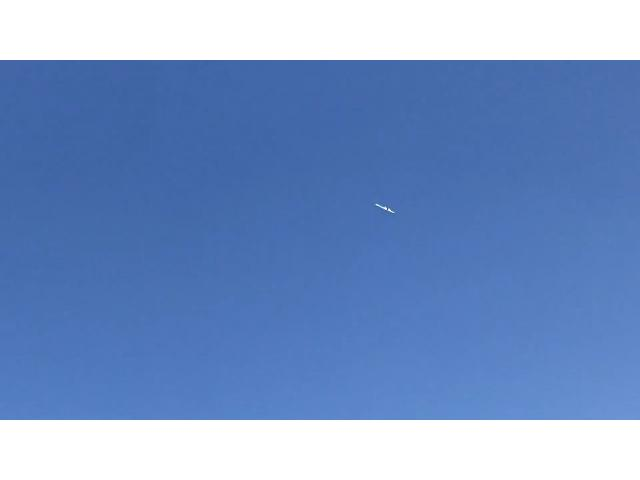Anti-Drone: (362, 196, 408, 224)
